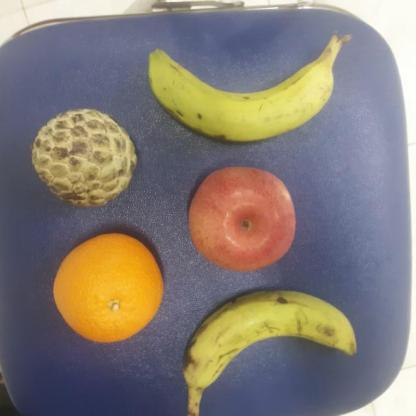annona: (26, 106, 142, 210)
apple: (186, 162, 299, 272)
banana: (148, 44, 338, 146), (182, 286, 358, 392)
orange: (51, 233, 168, 342)
